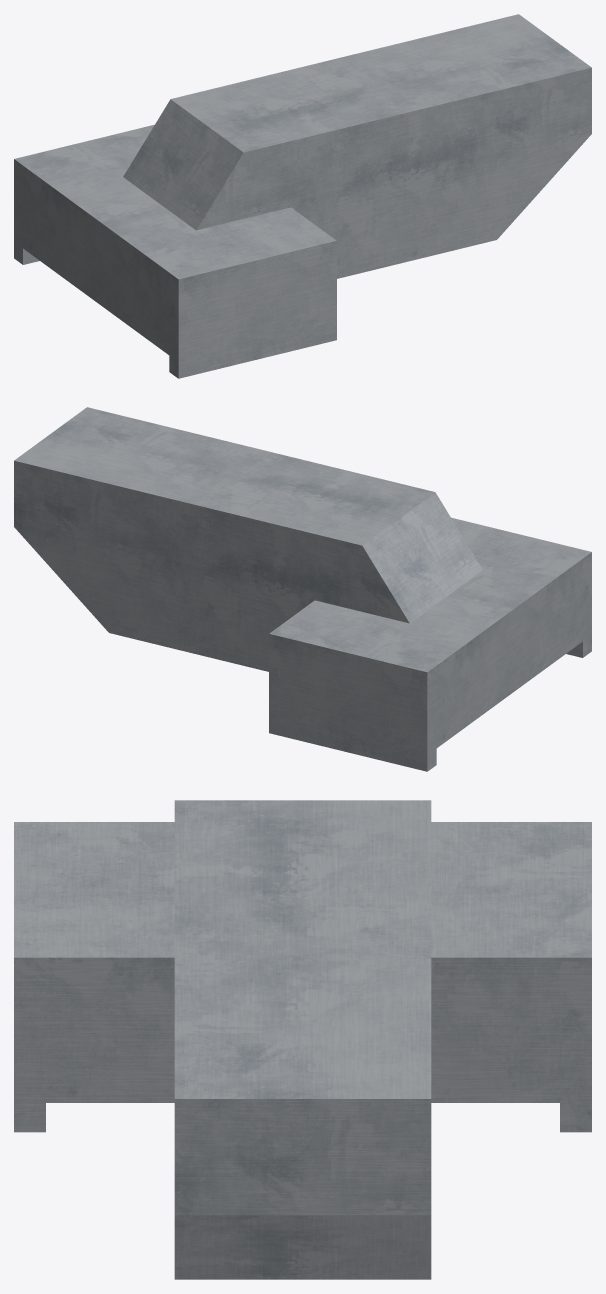
The model's file is Superconductor-Stand-0.obj.
3 renders of one model, top to bottom at view 1: azimuth 30°, elevation 25°; view 2: azimuth 150°, elevation 25°; view 3: azimuth 270°, elevation 25°, orthographic. The views are drawn at different scales.
Parts seen in each view (by area): view 1: Superconductor-Stand-0; view 2: Superconductor-Stand-0; view 3: Superconductor-Stand-0.
Boxes of the visible parts, x1=… form: Superconductor-Stand-0: x1=14, y1=14, x2=591, y2=378; Superconductor-Stand-0: x1=14, y1=407, x2=591, y2=771; Superconductor-Stand-0: x1=14, y1=800, x2=591, y2=1279.
Size of the model in its own units: 1.45 by 0.5 by 0.9.
